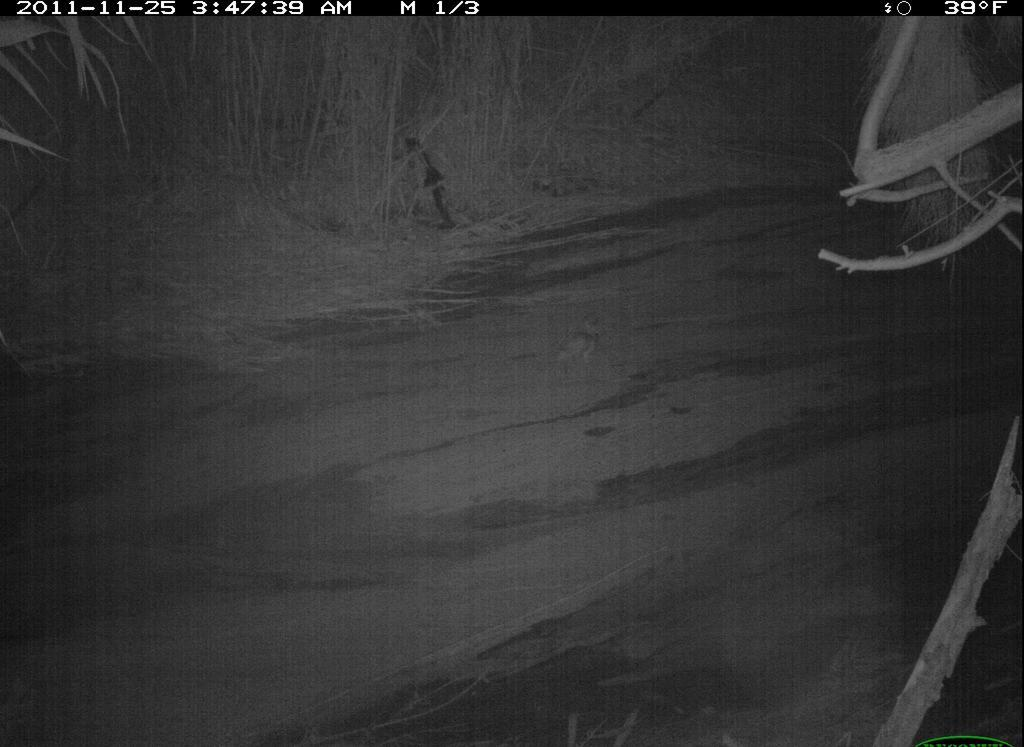rabbit: (542, 304, 611, 374)
